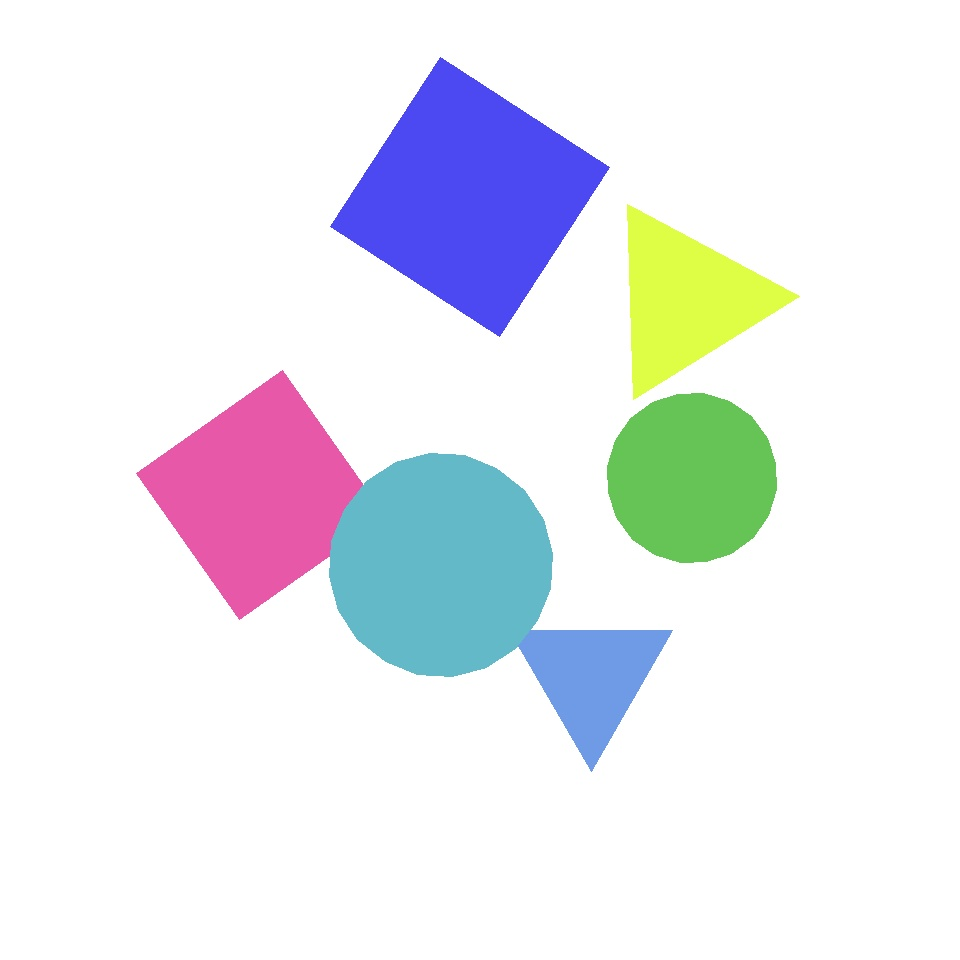circle: (465, 170, 717, 442), (63, 244, 314, 468), (64, 657, 278, 866), (601, 202, 773, 398), (510, 606, 672, 748)
square: (330, 57, 610, 336), (136, 370, 386, 620), (326, 250, 490, 412)
triangle: (330, 453, 552, 676), (606, 82, 815, 292), (608, 394, 776, 562), (74, 128, 226, 278)
